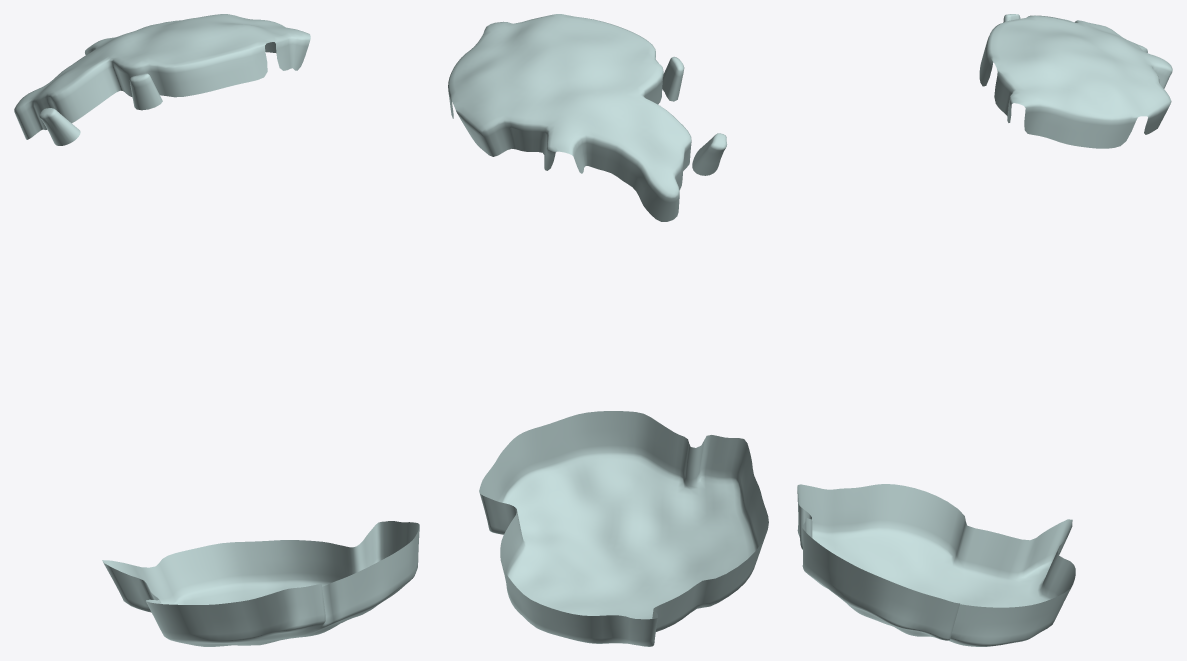
File: ice.glb
3 views of the same model, side by side, from view 1: azimuth 30°, elevation 25°; view 2: azimuth 150°, elevation 25°; view 3: azimuth 270°, elevation 25° (orthographic). The views are drawn at different scales.
Parts seen in each view (by area): view 1: ice; view 2: ice; view 3: ice.
Boxes of the visible parts, x1,y1,x2,y2 form: ice: (14,14,419,646); ice: (448,14,768,646); ice: (797,14,1172,646).
Size of the model in its own units: 1.34 by 2.49 by 1.47.
